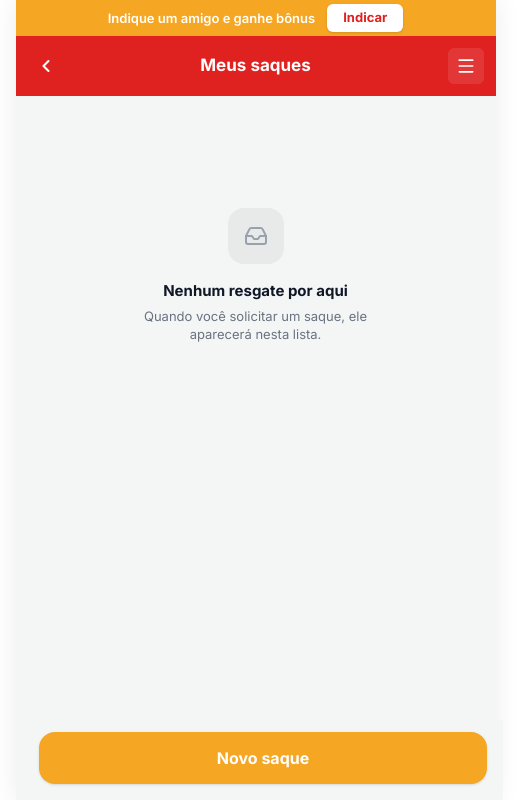
Test case: Novo saque: chaves recentes › não repete a mesma chave
This screenshot has width=520, height=800.
Click the button "Novo saque": point(263, 758) 39,732 -> 487,784
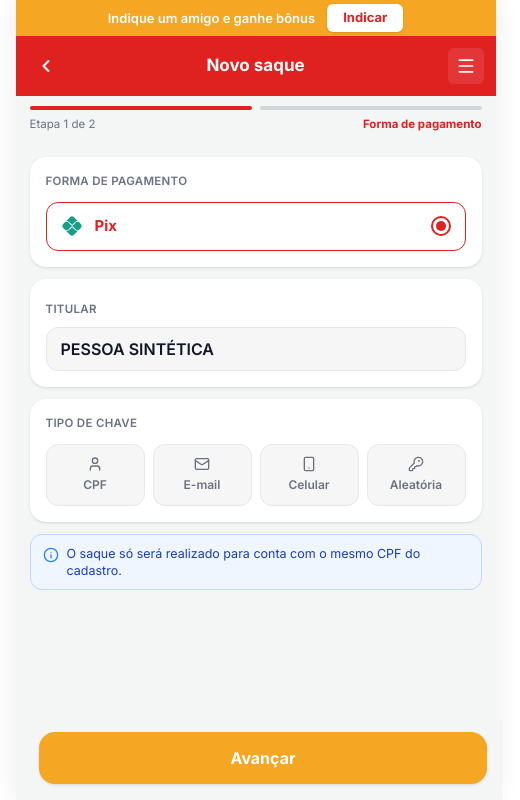
Click the radio button labelled "CPF": point(95, 475) 46,444 -> 144,506
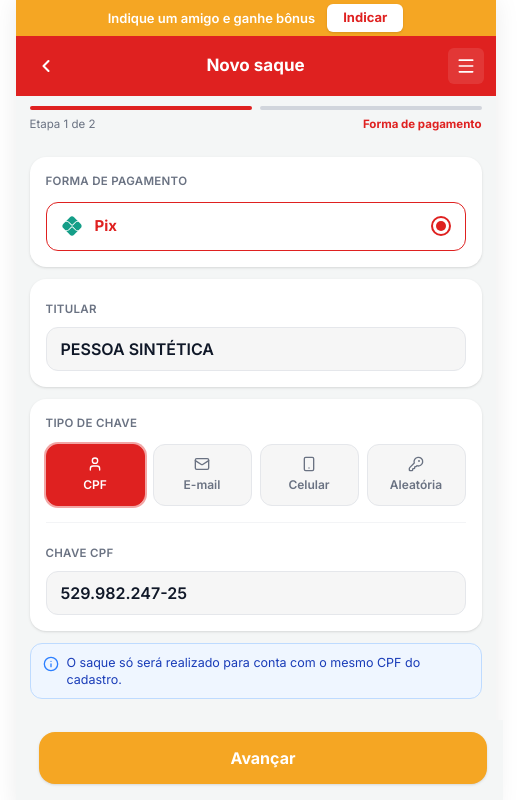
Click the button "Avançar": point(263, 758) 39,732 -> 487,784
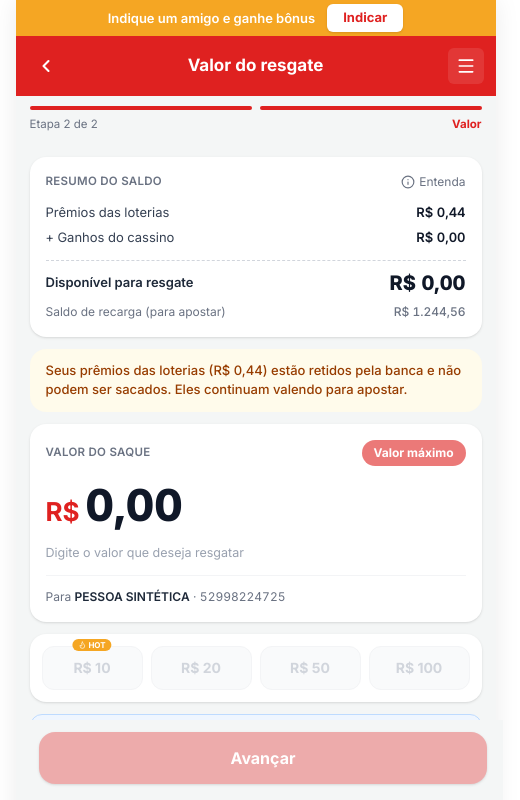
Click the button named "Voltar": point(46, 66) 28,48 -> 64,84
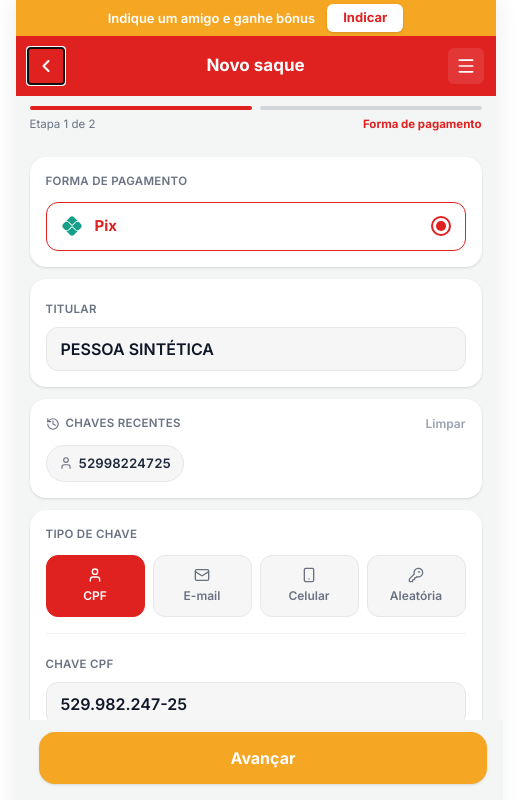
Click the button "Avançar": point(263, 758) 39,732 -> 487,784
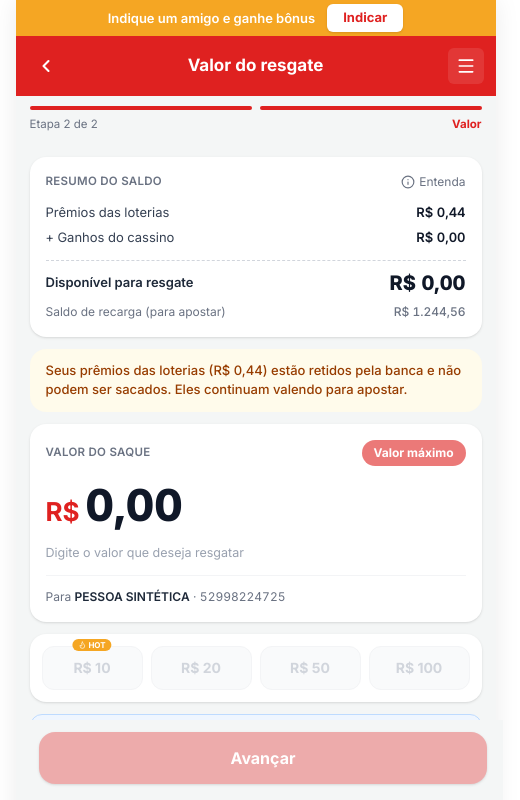
Click the button named "Voltar": point(46, 66) 28,48 -> 64,84
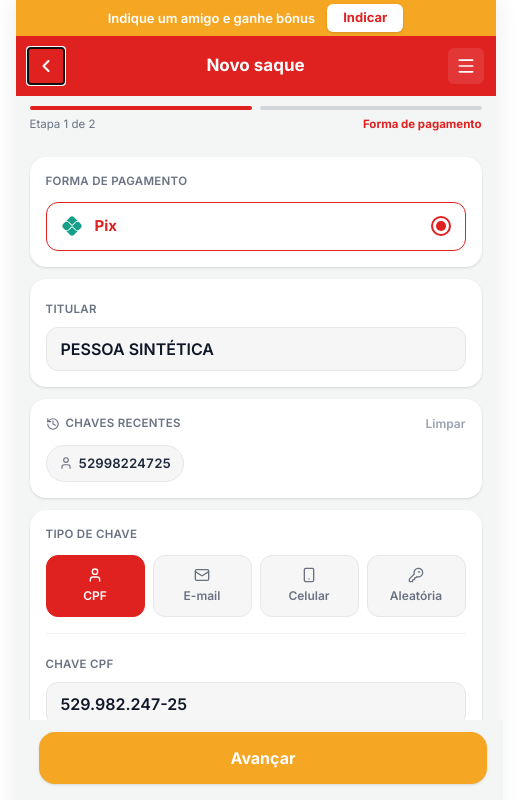
Result: the number of list items is 1 at 46,444 -> 184,482
